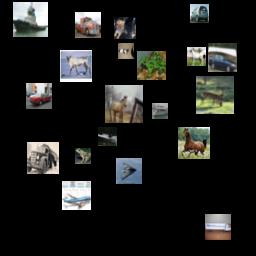airplane: (62, 181, 91, 210), (116, 158, 142, 184), (98, 127, 117, 146)
automobile: (208, 43, 237, 72), (26, 83, 52, 109), (190, 4, 209, 23)
deer: (196, 76, 234, 114), (60, 50, 92, 82)
dog: (114, 17, 136, 39), (118, 43, 134, 59)
frog: (137, 51, 166, 80), (75, 148, 91, 164)
ship: (13, 2, 48, 37), (152, 103, 168, 119)
truck: (27, 142, 59, 174), (75, 12, 101, 38), (205, 214, 231, 240)
